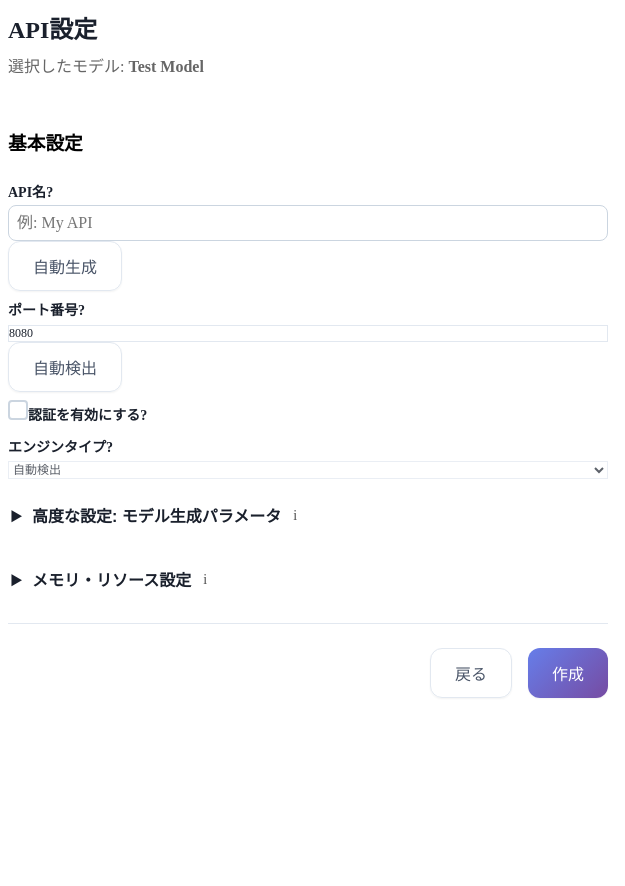
ApiConfigForm.tsx › 高度なパラメータ › 高度なパラメータセクションを展開できる
This screenshot has width=625, height=886.
Click the button "▶ 高度な設定: モデル生成パラメータ".
click(145, 515)  # box [8,495,281,535]
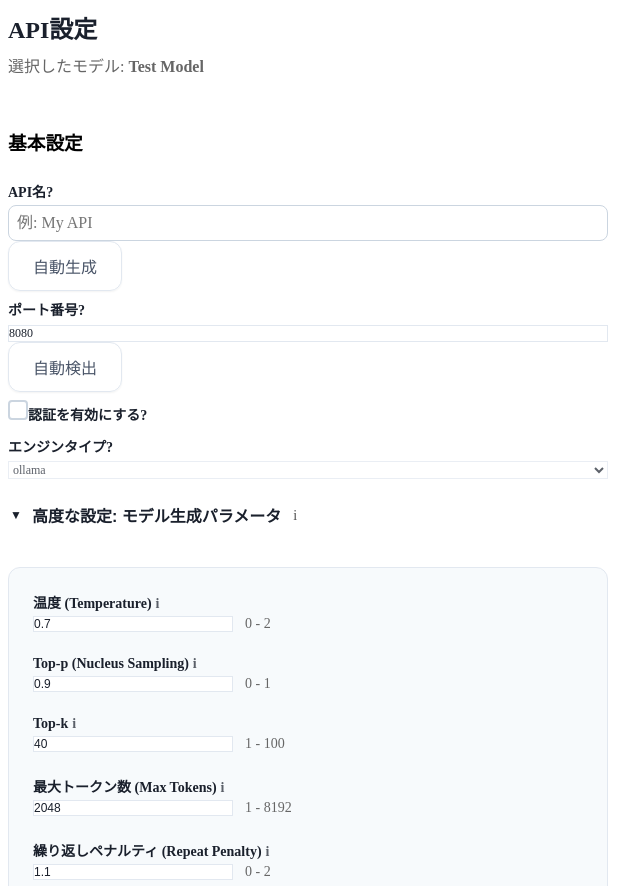
Expected: the number field labelled "温度 (Temperature) i" is shown, [33,616,233,632]
